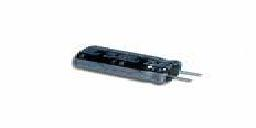Electrolytic-Capacitor: (69, 43, 208, 91)
